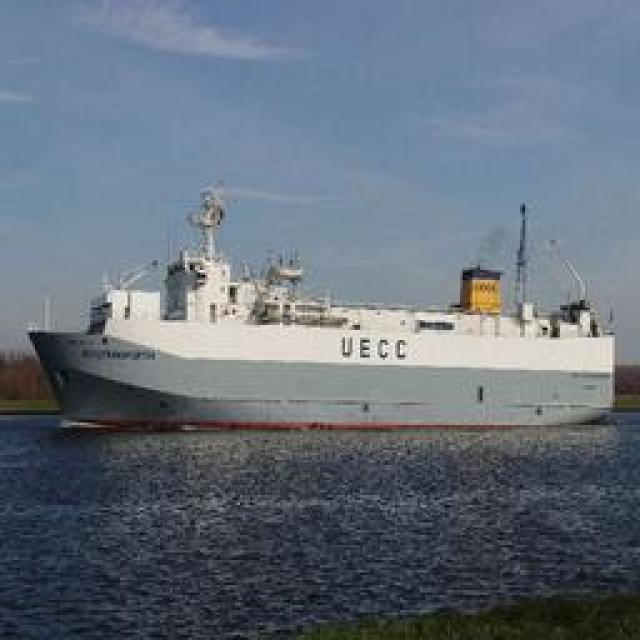CIV_Ship: (5, 182, 618, 438)
